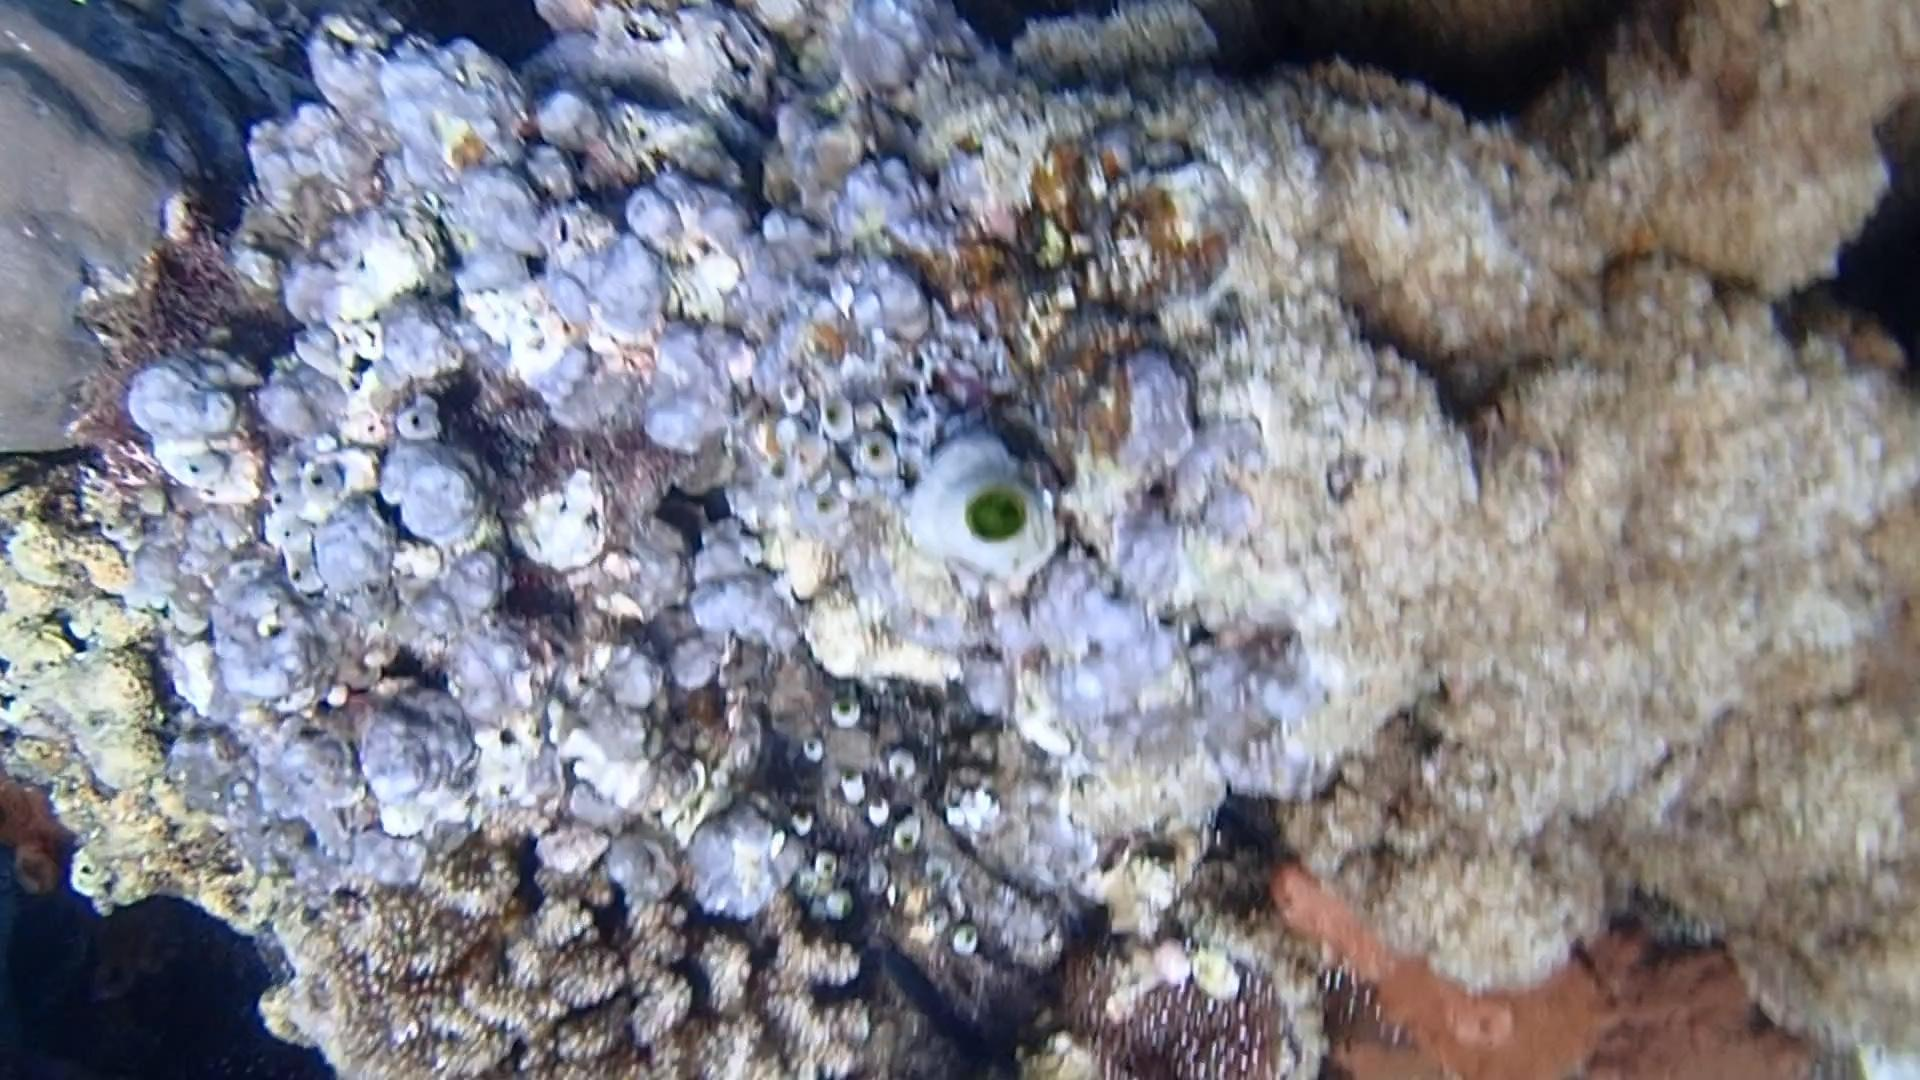Dark Fish: (853, 920, 1033, 1080)
